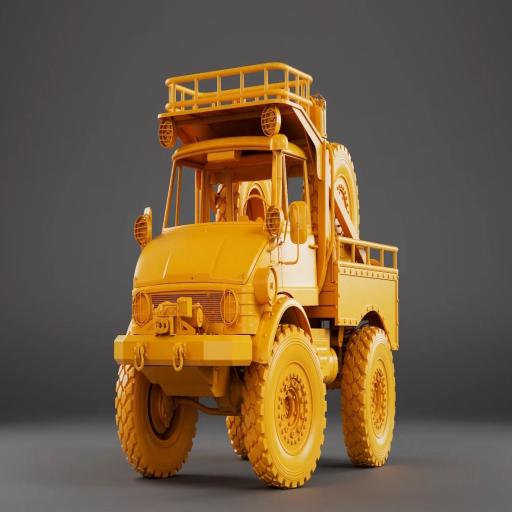truck: (110, 63, 400, 500)
